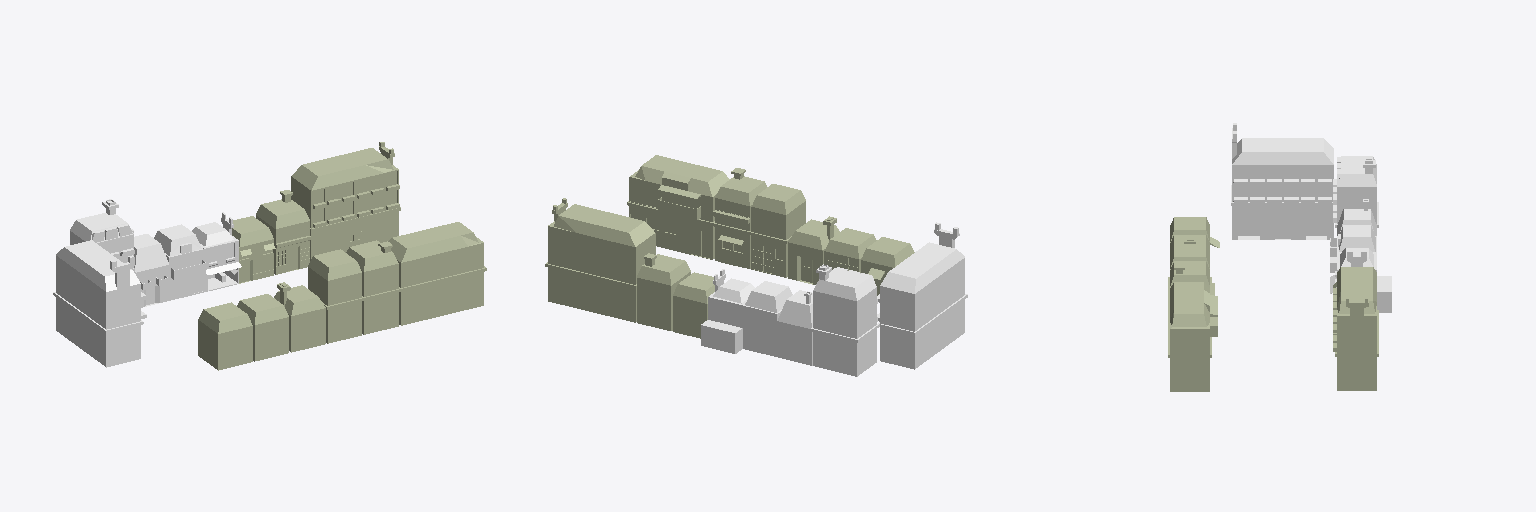
File: building_09_many.obj
The picture shows the model from 3 angles: view 1: azimuth 30°, elevation 25°; view 2: azimuth 150°, elevation 25°; view 3: azimuth 270°, elevation 25°; orthographic projection.
Parts seen in each view (by area): view 1: Cube3_copy6, Cube3_copy8, Cube3_copy16, Cube3_copy14, Cube3_copy15, Cube3_copy11, Cube3_copy5, Cube2, Cube4, Cube3_copy13, Cube3_copy12, Cube3_copy7 (+2 smaller); view 2: Cube3_copy6, Cube3_copy8, Cube3_copy16, Cube3_copy7, Cube3_copy14, Cube3_copy15, Cube3_copy5, Cube4, Cube2, Cube3, Cube3_copy13, Cube3_copy4 (+2 smaller); view 3: Cube3_copy8, Cube3_copy6, Cube3_copy16, Cube3_copy7, Cube4, Cube2, Cube3_copy15, Cube3_copy11, Cube3_copy14, Cube3.
Boxes of the visible parts, x1,y1,x2,y2 form: Cube3_copy6: [291, 142, 400, 260]; Cube3_copy8: [53, 240, 146, 367]; Cube3_copy16: [388, 222, 486, 325]; Cube3_copy14: [308, 249, 363, 343]; Cube3_copy15: [346, 240, 400, 334]; Cube3_copy11: [198, 302, 252, 370]; Cube3_copy5: [256, 190, 310, 274]; Cube2: [154, 224, 205, 300]; Cube4: [192, 212, 241, 291]; Cube3_copy13: [274, 282, 325, 352]; Cube3_copy12: [237, 294, 288, 361]; Cube3_copy7: [70, 199, 135, 273]; Cube3_copy6: [545, 198, 655, 322]; Cube3_copy8: [877, 222, 967, 369]; Cube3_copy16: [627, 155, 729, 259]; Cube3_copy7: [810, 264, 879, 376]; Cube3_copy14: [751, 184, 805, 277]; Cube3_copy15: [713, 168, 766, 268]; Cube3_copy5: [637, 253, 690, 330]; Cube4: [701, 269, 754, 353]; Cube2: [743, 281, 792, 356]; Cube3: [777, 290, 812, 365]; Cube3_copy13: [788, 216, 839, 284]; Cube3_copy4: [673, 272, 714, 338]; Cube3_copy8: [1231, 123, 1333, 239]; Cube3_copy6: [1333, 267, 1378, 390]; Cube3_copy16: [1168, 282, 1217, 391]; Cube3_copy7: [1333, 156, 1378, 227]; Cube4: [1330, 248, 1391, 312]; Cube2: [1330, 225, 1376, 272]; Cube3_copy15: [1168, 261, 1214, 312]; Cube3_copy11: [1170, 217, 1219, 247]; Cube3_copy14: [1168, 244, 1211, 295]; Cube3: [1330, 199, 1376, 246].
Bounding box in the file's own units: 2759 × 779 × 1524.